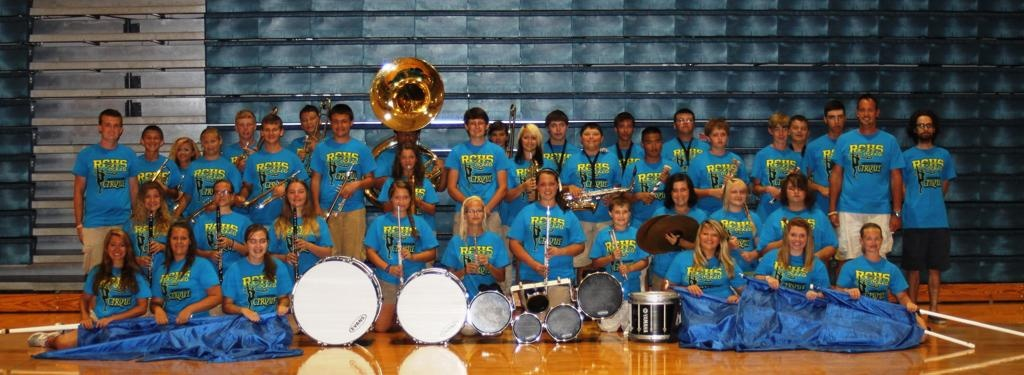human_face: (247, 232, 267, 258), (106, 234, 126, 260), (537, 174, 557, 200), (169, 229, 189, 254), (698, 227, 720, 249), (100, 115, 120, 139), (862, 227, 882, 251), (858, 99, 876, 125), (330, 113, 350, 135), (464, 202, 484, 224), (392, 187, 410, 211), (644, 132, 662, 156), (672, 180, 690, 204), (788, 226, 806, 250), (288, 182, 306, 205), (612, 202, 630, 225), (142, 189, 160, 211), (616, 118, 634, 140), (787, 180, 805, 202), (827, 109, 845, 131), (916, 116, 934, 138), (582, 127, 600, 148), (214, 182, 230, 205), (201, 134, 219, 154), (236, 119, 254, 139), (262, 122, 280, 142), (466, 118, 486, 136), (728, 185, 746, 205), (709, 126, 727, 146), (790, 119, 806, 141), (676, 112, 692, 134), (300, 112, 318, 131), (548, 121, 566, 140), (144, 130, 160, 151), (176, 140, 192, 160), (400, 150, 416, 170), (521, 131, 537, 151), (772, 123, 788, 143), (491, 130, 507, 146)
